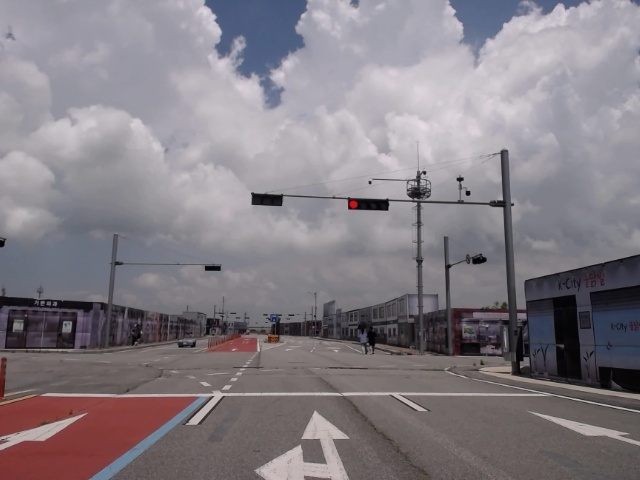red_4: (348, 199, 388, 210)
